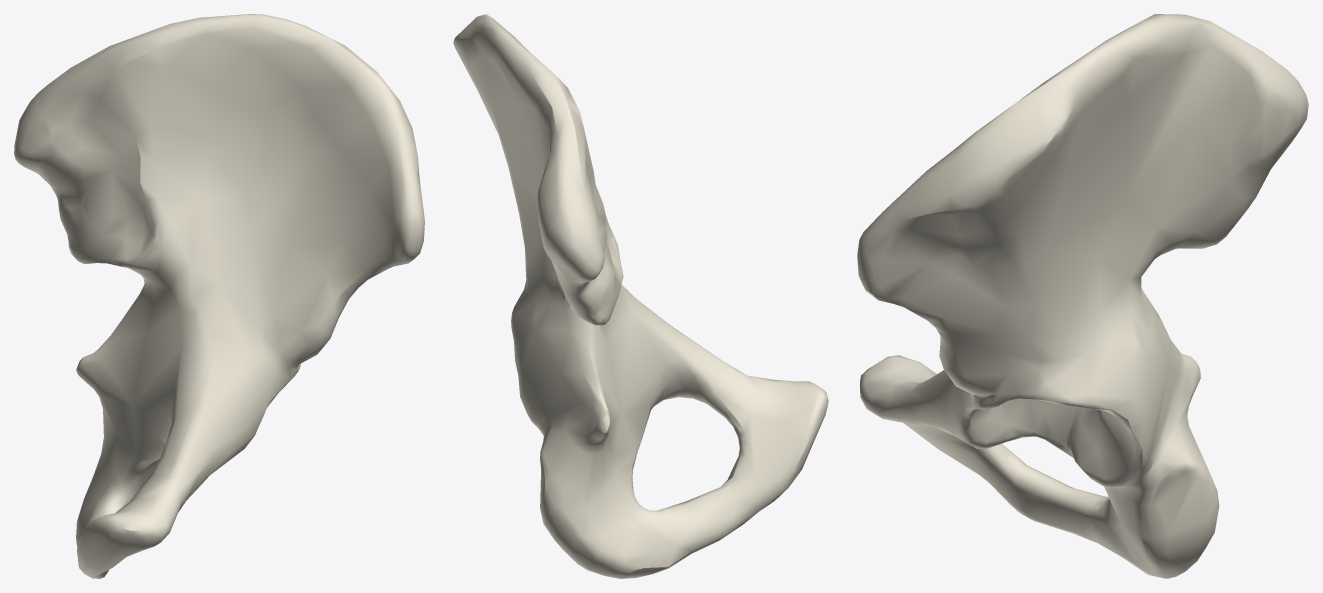
The model's file is fma236884_fj6398.glb.
3 views of the same model, side by side, from view 1: azimuth 30°, elevation 25°; view 2: azimuth 150°, elevation 25°; view 3: azimuth 270°, elevation 25° (orthographic). The views are drawn at different scales.
Parts seen in each view (by area): view 1: FMA236884_FJ6398; view 2: FMA236884_FJ6398; view 3: FMA236884_FJ6398.
Boxes of the visible parts, left/top/right/bottom form: FMA236884_FJ6398: left=14, top=14, right=424, bottom=578; FMA236884_FJ6398: left=453, top=14, right=828, bottom=578; FMA236884_FJ6398: left=857, top=14, right=1308, bottom=578.
Bounding box in the file's own units: 0.142 × 0.206 × 0.1374.
